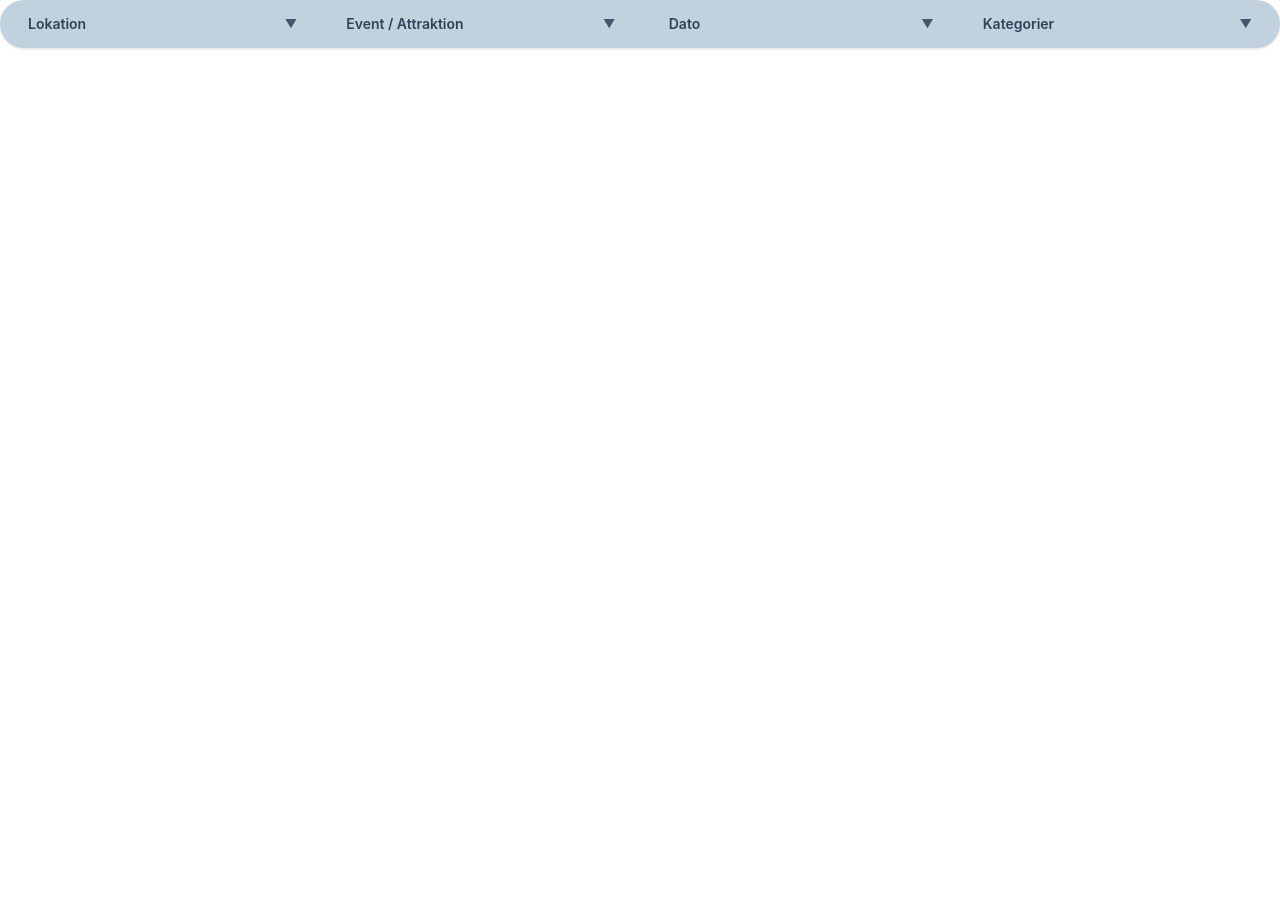
Test case: SearchFilter › closes open dropdowns when clicking outside the filter
This screenshot has width=1280, height=900.
Focus the field with placeholder "Lokation" at (152, 24), box top-left (28, 14), bottom-right (277, 34)
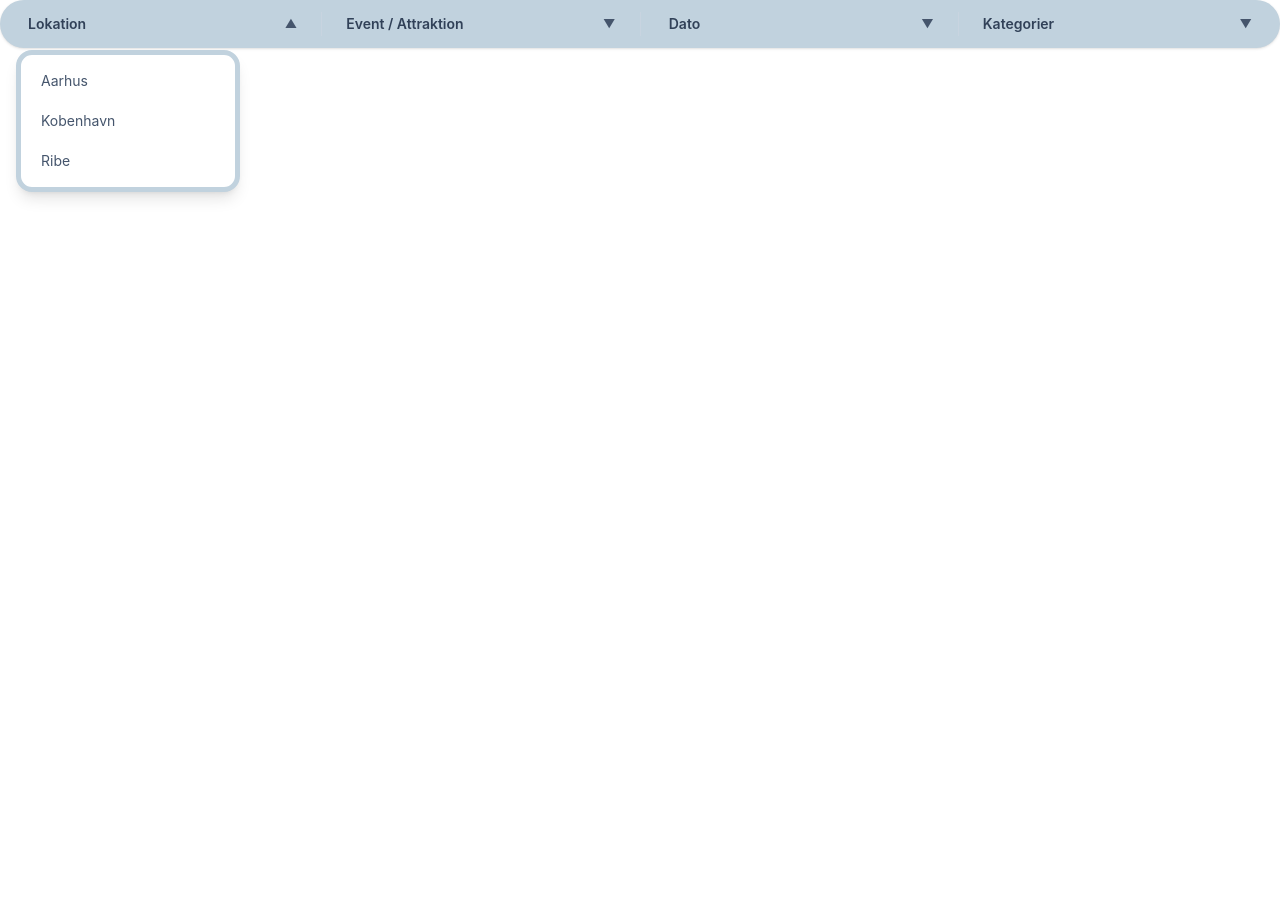
Expected: the text "Aarhus" is shown, top-left (41, 71), bottom-right (88, 91)
Press the mouse on the element showing "▲ Aarhus Kobenhavn Ribe Event / Attraktion ▼ Dato ▼ ▼" at (640, 450), box top-left (0, 0), bottom-right (1279, 899)
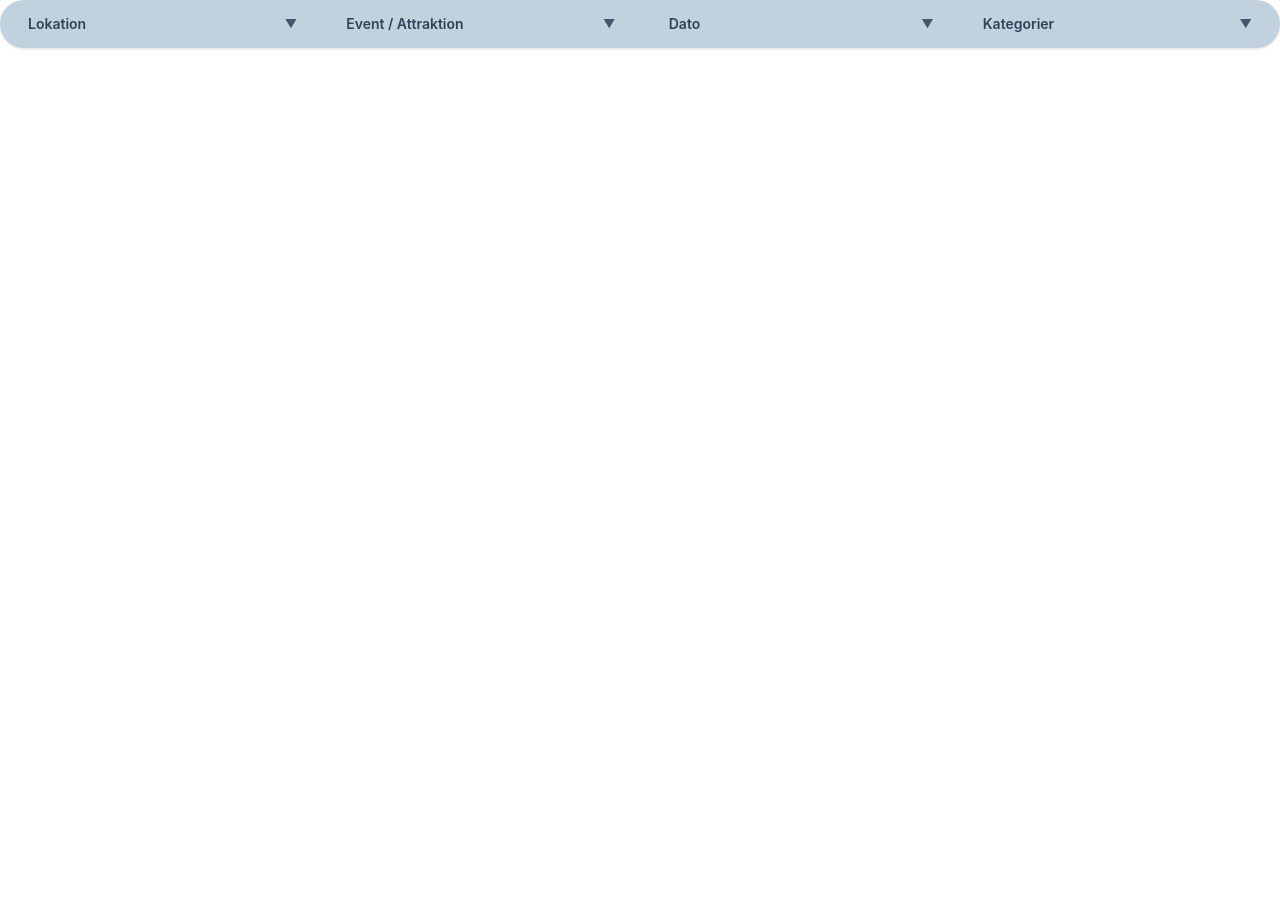
Expected: the text "Aarhus" is gone
